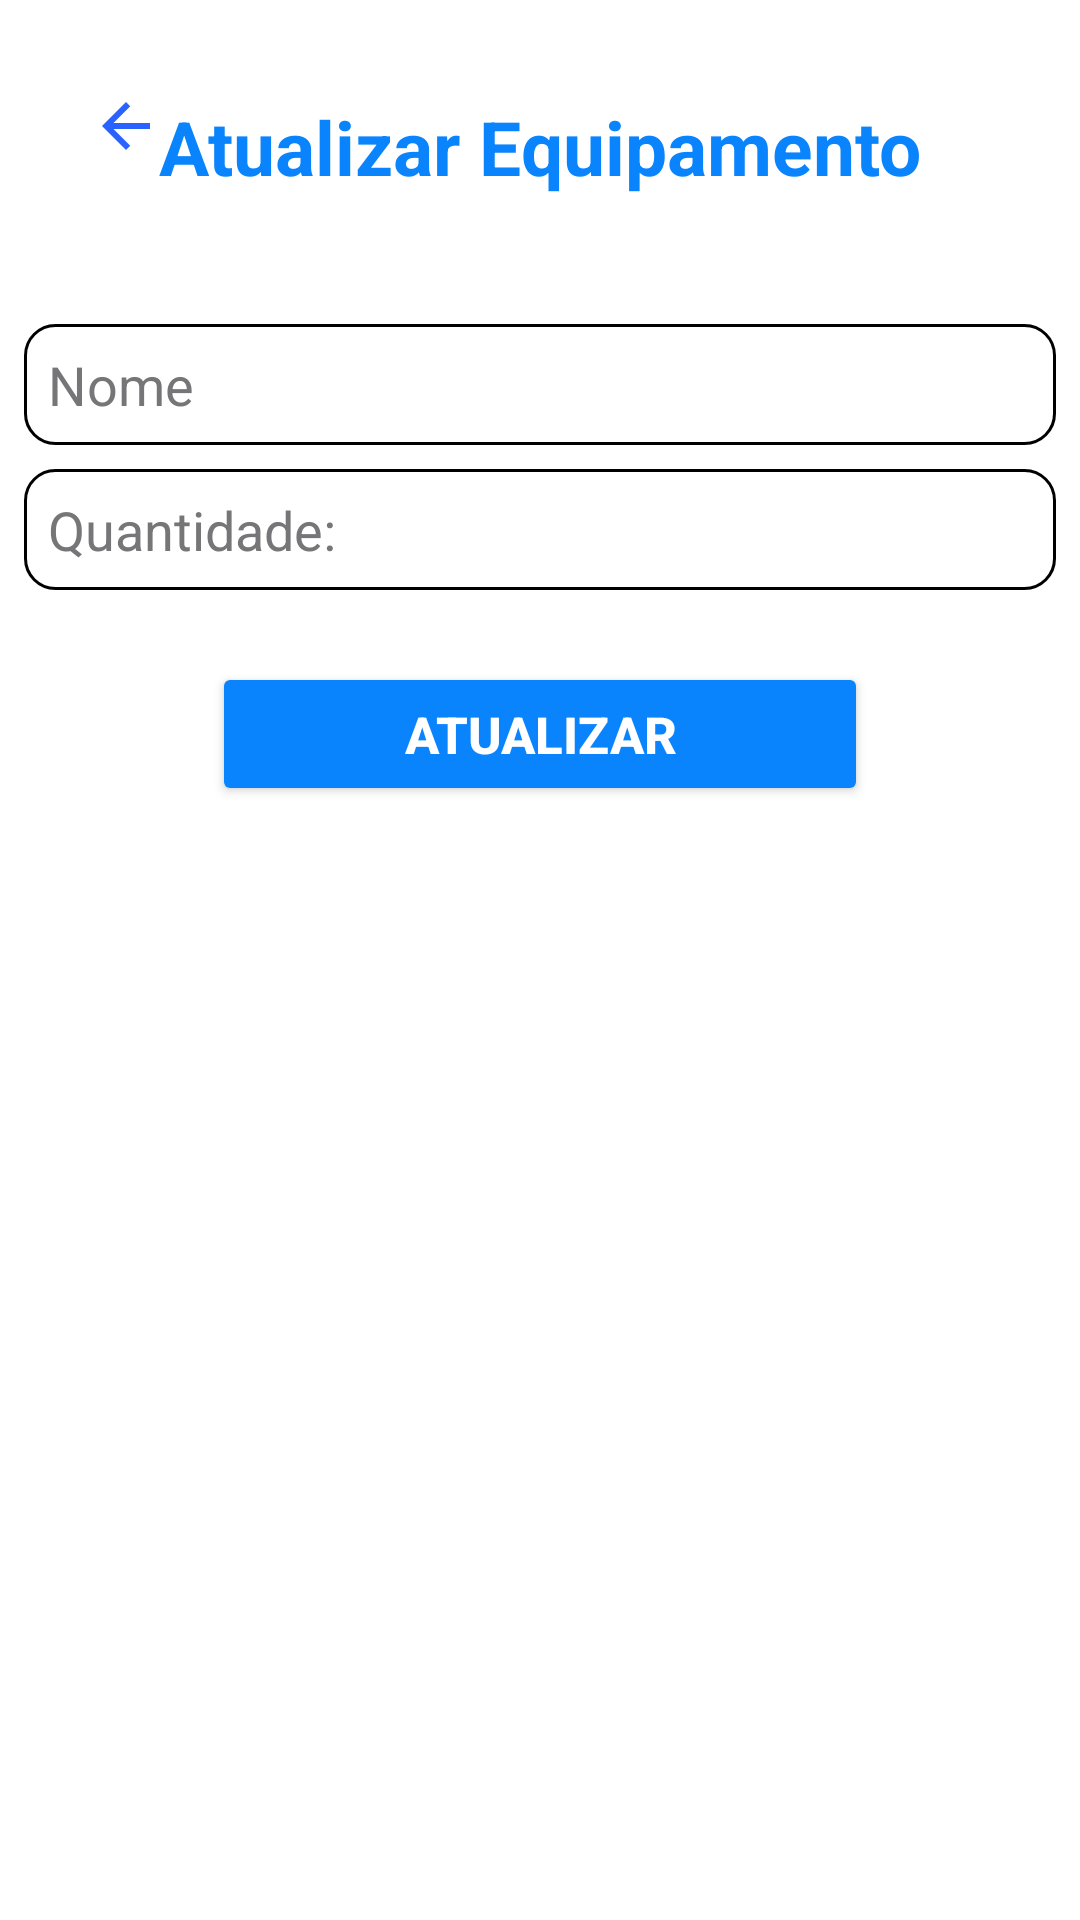

Named icons in this screenshot (1080 x 1920) and their centers, (x,y):
back: (126,126)
